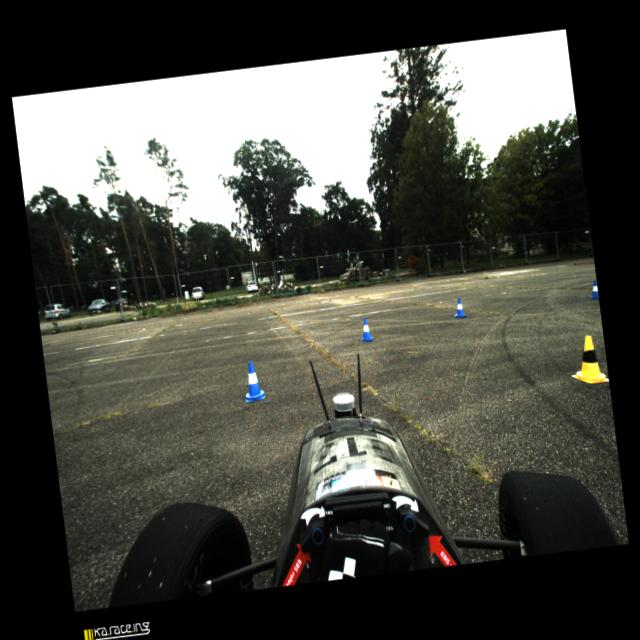blue_cone: (241, 359, 265, 402), (358, 317, 373, 342), (452, 297, 466, 318), (588, 280, 599, 300)
yellow_cone: (567, 332, 609, 387)
